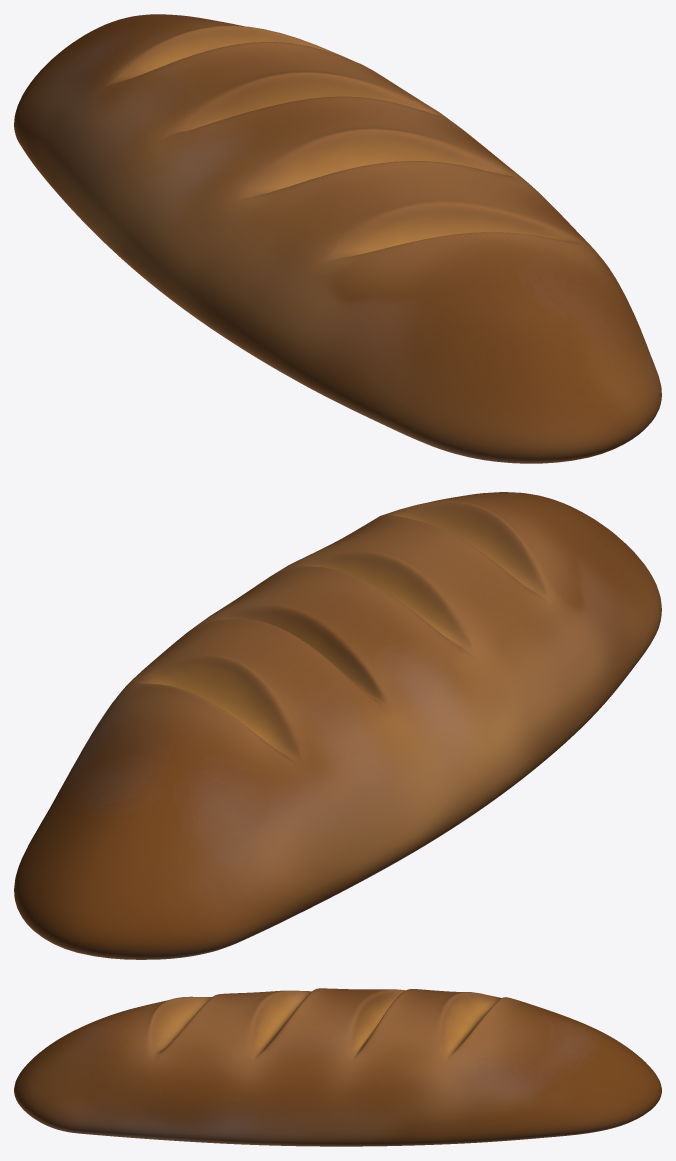
File: a_soviet_white_bread_nareznoy_baton..glb
3 views of the same model, one above another, from view 1: azimuth 30°, elevation 25°; view 2: azimuth 150°, elevation 25°; view 3: azimuth 270°, elevation 25° (orthographic). The views are drawn at different scales.
Parts seen in each view (by area): view 1: Box005; view 2: Box005; view 3: Box005.
Boxes of the visible parts, bbox=[...] form: Box005: bbox=[14, 14, 661, 463]; Box005: bbox=[14, 492, 661, 959]; Box005: bbox=[14, 988, 661, 1146].
Size of the model in its own units: 1.21 by 0.619 by 3.3.
1 material, 1 textured.
